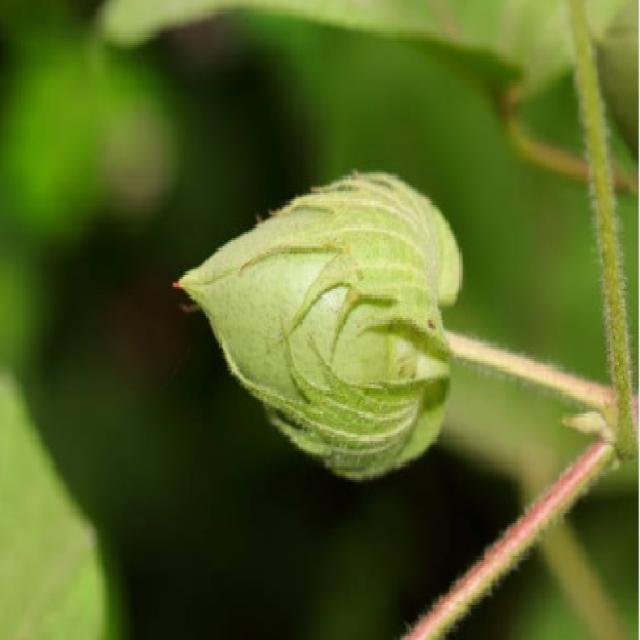Early Boll: (162, 166, 469, 470)
